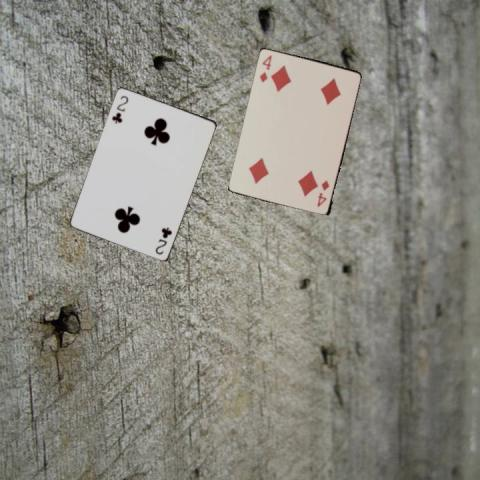2c: (109, 92, 130, 125), (152, 224, 173, 256)
4d: (314, 177, 331, 209), (257, 52, 273, 84)
